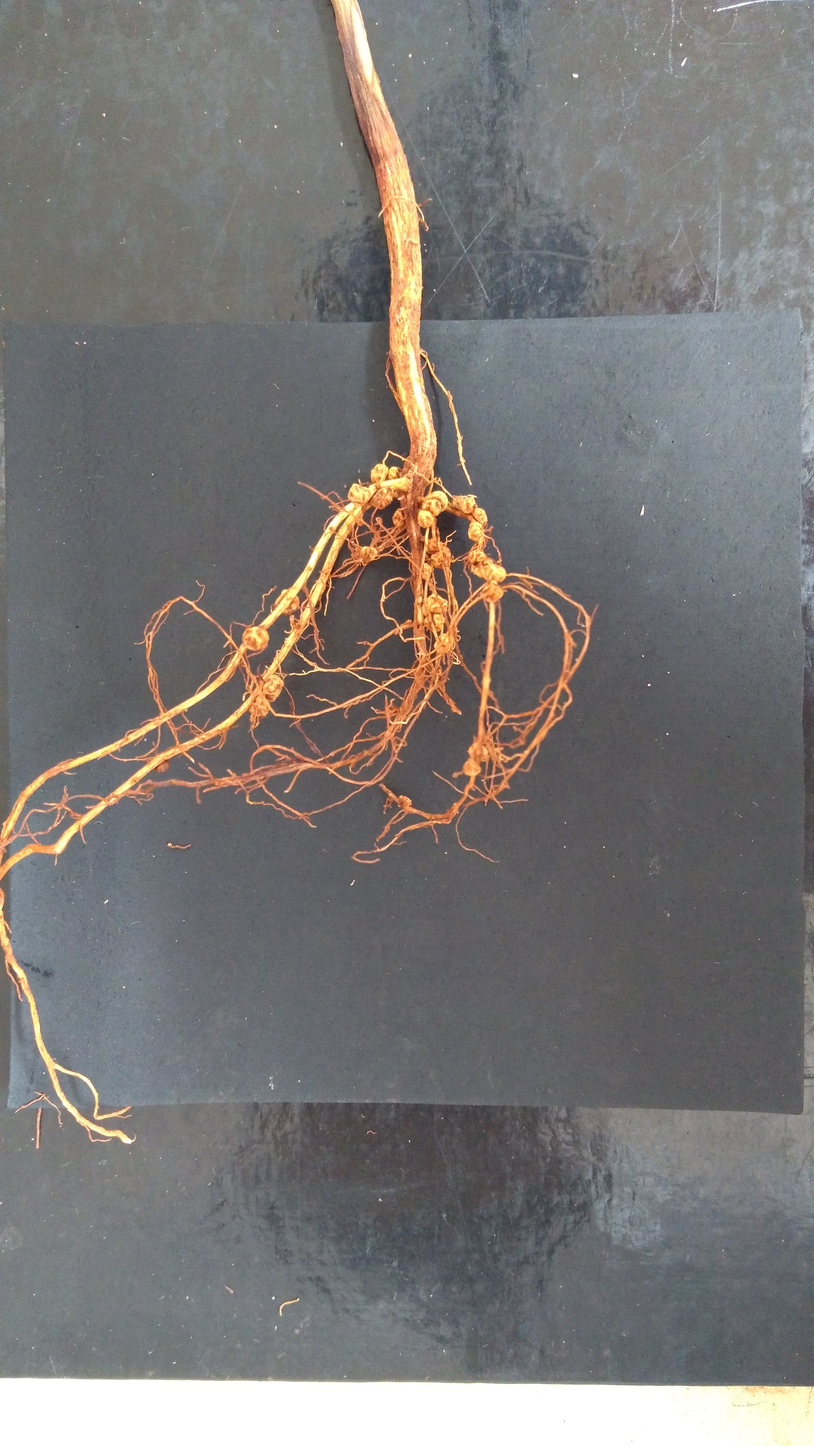nodule: (422, 491, 448, 517), (242, 626, 269, 651), (274, 589, 299, 615), (368, 486, 393, 510), (262, 674, 283, 702), (422, 595, 448, 616), (468, 550, 486, 578), (451, 496, 478, 514), (248, 694, 270, 716), (430, 546, 451, 568), (348, 483, 370, 504), (482, 564, 506, 582), (468, 742, 489, 762), (434, 634, 456, 653), (480, 584, 503, 602), (370, 464, 389, 484), (424, 615, 445, 632), (479, 559, 495, 580), (472, 508, 488, 529), (425, 537, 444, 554), (417, 510, 434, 529), (463, 758, 481, 775), (468, 522, 483, 542), (359, 546, 377, 561), (392, 509, 404, 527), (154, 760, 169, 772), (397, 795, 411, 807), (422, 563, 432, 579), (387, 467, 399, 480), (354, 546, 364, 559), (391, 489, 400, 499), (375, 517, 383, 525), (404, 619, 411, 625), (394, 628, 400, 635), (357, 519, 363, 526), (379, 546, 385, 552), (419, 537, 426, 542), (418, 596, 422, 603)
